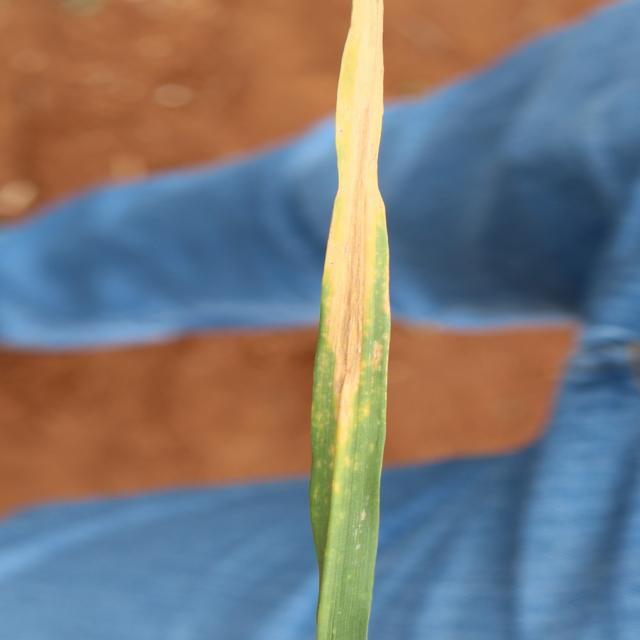Septoria: (308, 1, 392, 637)
